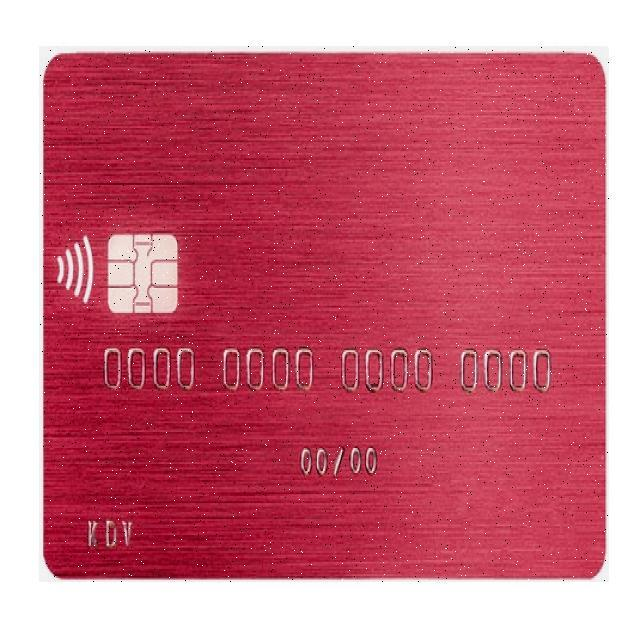payment_card: (41, 49, 608, 579)
